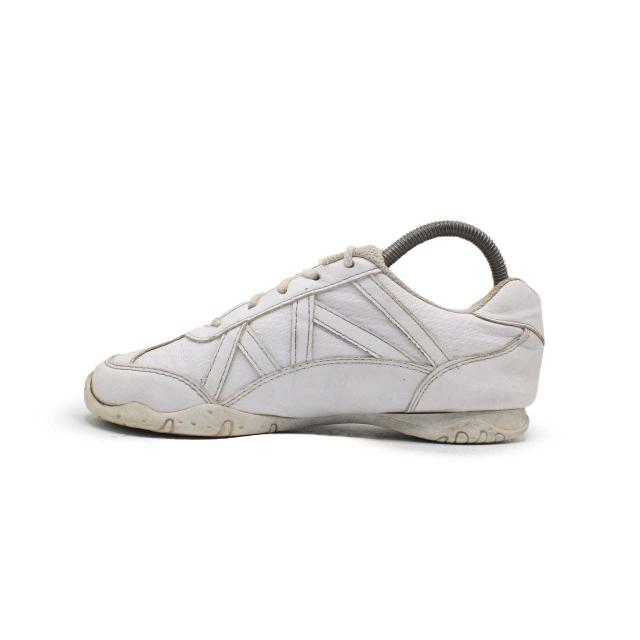heel: (463, 279, 542, 410)
midsole: (86, 375, 527, 442)
uppersole: (86, 245, 477, 416)
